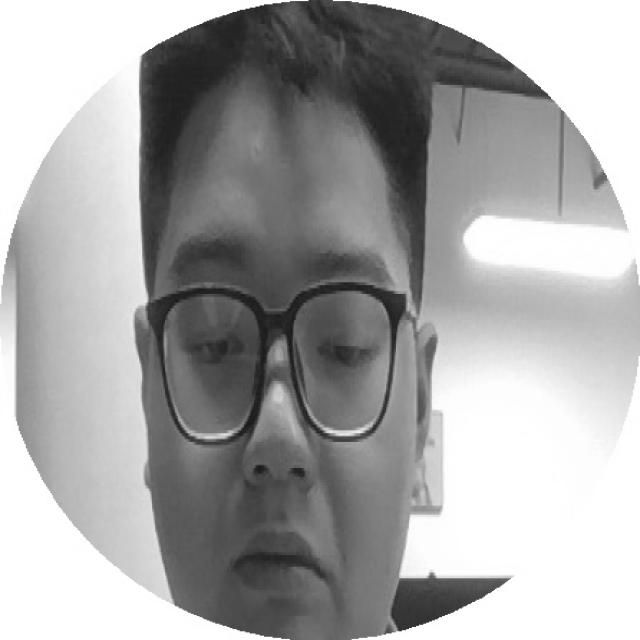real: (136, 80, 416, 635), (164, 235, 397, 383)
